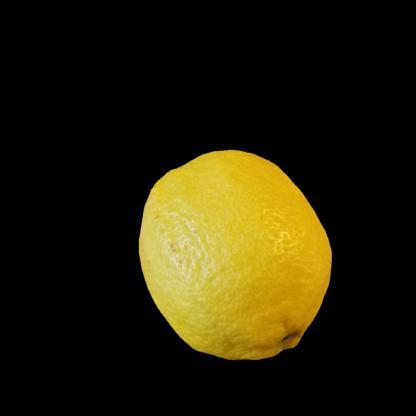lemon: (138, 148, 333, 360)
